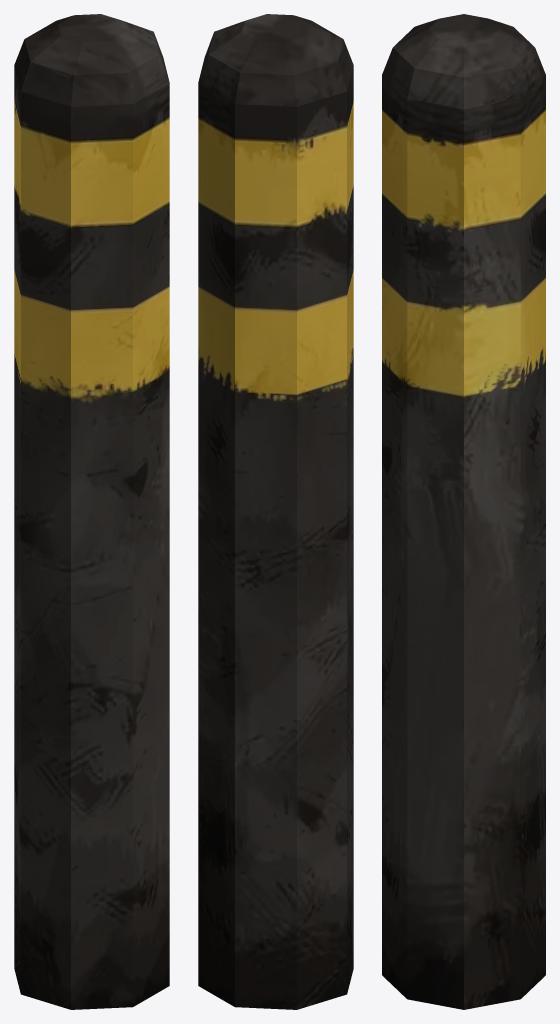
The model's file is strProp_36.glb.
3 views of the same model, side by side, from view 1: azimuth 30°, elevation 25°; view 2: azimuth 150°, elevation 25°; view 3: azimuth 270°, elevation 25° (orthographic).
Parts seen in each view (by area): view 1: geometry_0; view 2: geometry_0; view 3: geometry_0.
Part boxes in pixels (box(x1,y1,x2,y2)): geometry_0: box(14, 14, 169, 1009); geometry_0: box(198, 14, 353, 1009); geometry_0: box(382, 14, 545, 1009).
Size of the model in its own units: 0.1253 by 0.7985 by 0.1253.
1 material, 1 textured.
